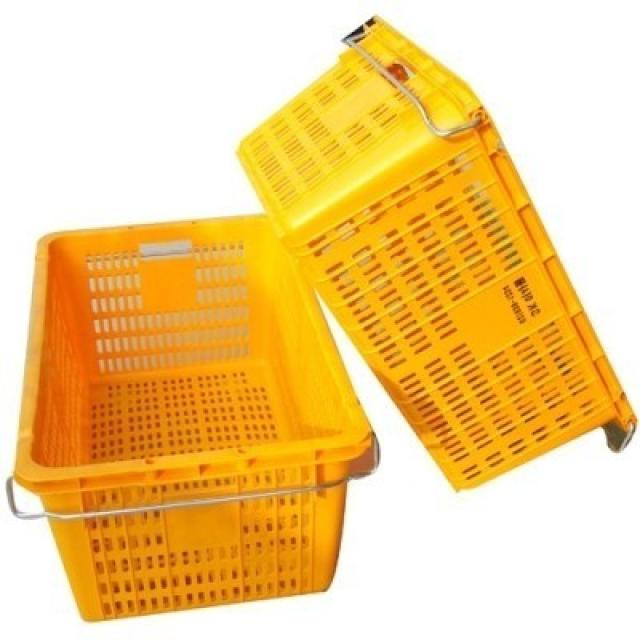basket: (0, 196, 396, 630)
